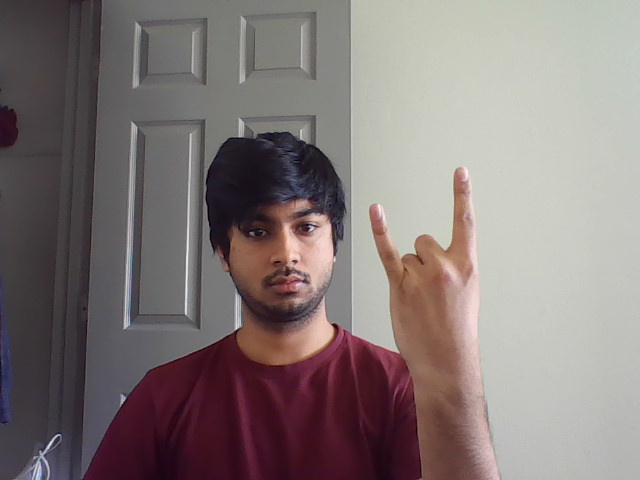help: (356, 163, 514, 288)
